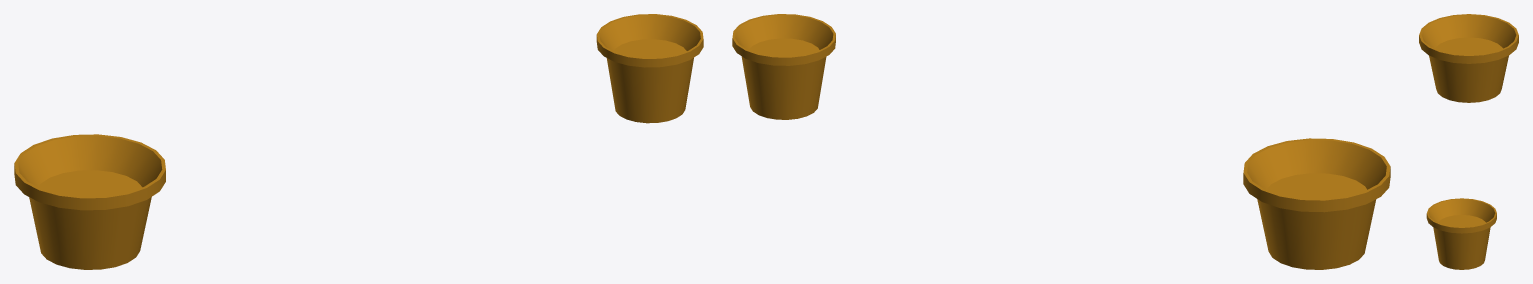
The model's file is TreeBushes.fbx.
The picture shows the model from 3 angles, left to right: view 1: azimuth 30°, elevation 25°; view 2: azimuth 150°, elevation 25°; view 3: azimuth 270°, elevation 25°; orthographic projection. The views are drawn at different scales.
Visible parts, largest first — view 1: pCylinder1, pCylinder2; view 2: pCylinder1, pCylinder2; view 3: pCylinder1, pCylinder2.
Part boxes in pixels (box(x1,y1,x2,y2)): pCylinder1: box(14, 134, 165, 269); pCylinder2: box(596, 14, 703, 123); pCylinder1: box(1243, 138, 1390, 269); pCylinder2: box(732, 14, 835, 119); pCylinder1: box(1419, 14, 1518, 102); pCylinder2: box(1426, 198, 1496, 269).
Bounding box in the file's own units: 21.47 × 2.54 × 4.25.
